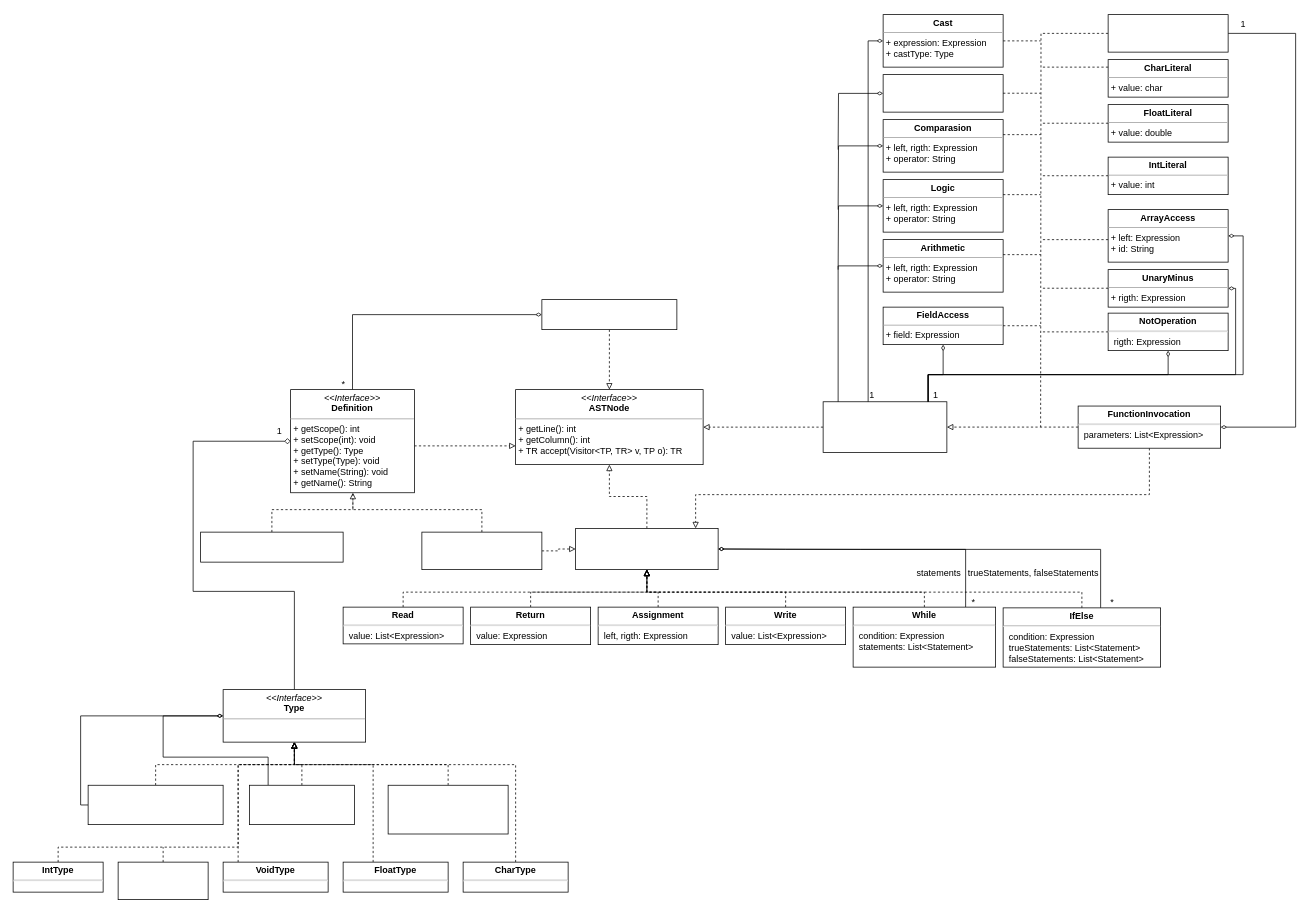
Image size: 1315x913. Some labels were removed from this diagram. The shapes that lost their labels are listed below. From the top down, each one's centre as x and y in pixels, then its label:
At (1167,33): "Variable + name: string".
At (942,93): "ArrayAccess + left, rigth: Expression".
At (609,314): "Program".
At (884,426): "<<Interface>> Expression - lvalue: boolean".
At (271,546): "FunctionDefinition".
At (481,550): "VarDefinition - int offset".
At (646,549): "<<Interface>> Statement".
At (155,804): "FunctionType - params: List<VarDefinition>".
At (301,804): "ArrayType size: int".
At (447,809): "StructType fields: List<StructField>".
At (162,880): "ErrorType - msg: String".
